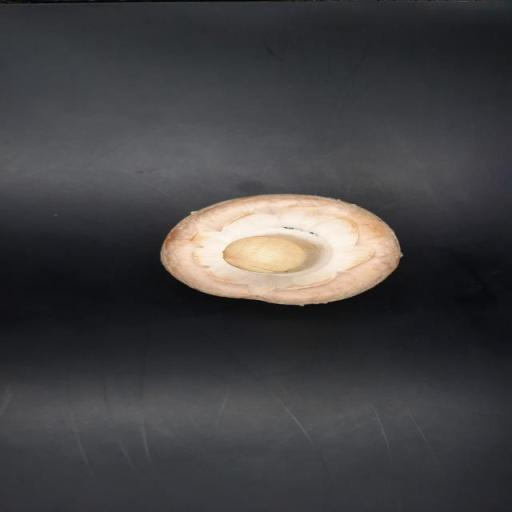Button Mushroom: (159, 193, 404, 309)
